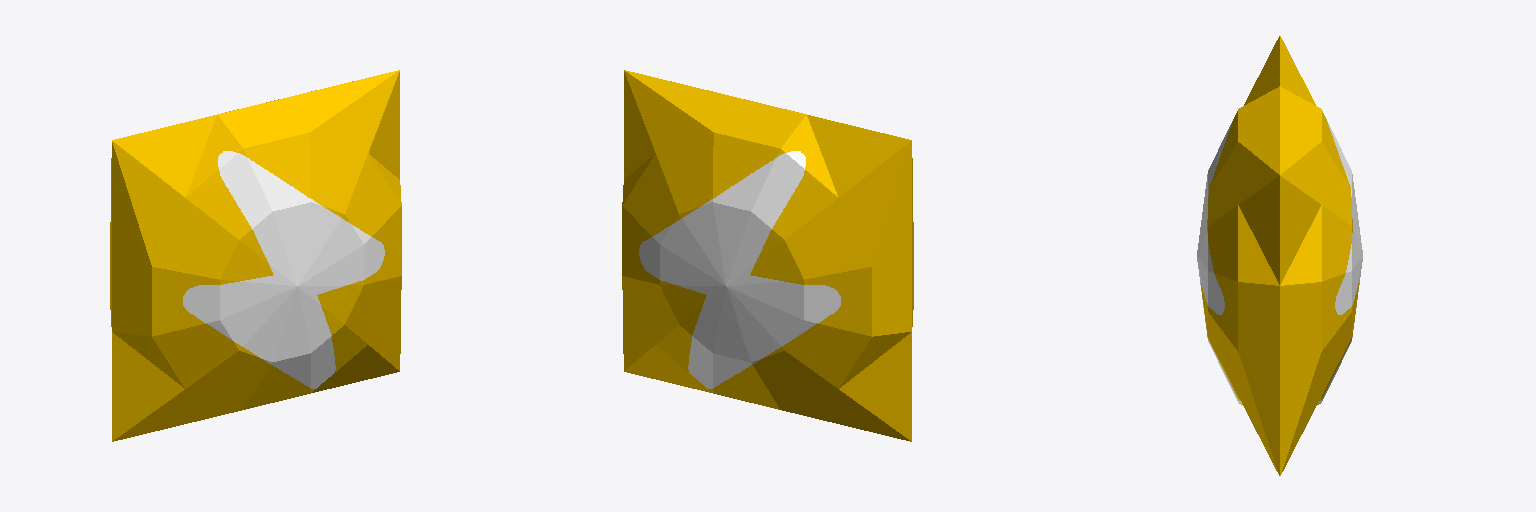
The picture shows the model from 3 angles: view 1: azimuth 30°, elevation 25°; view 2: azimuth 150°, elevation 25°; view 3: azimuth 270°, elevation 25°; orthographic projection.
Parts seen in each view (by area): view 1: sphere; view 2: sphere; view 3: sphere.
Boxes of the visible parts, box(x1,y1,x2,y2) form: sphere: box(110, 70, 401, 441); sphere: box(622, 70, 913, 441); sphere: box(1197, 36, 1362, 475).
Size of the model in its own units: 1 by 1 by 0.5.
Materials: 1 (1 with a texture image).